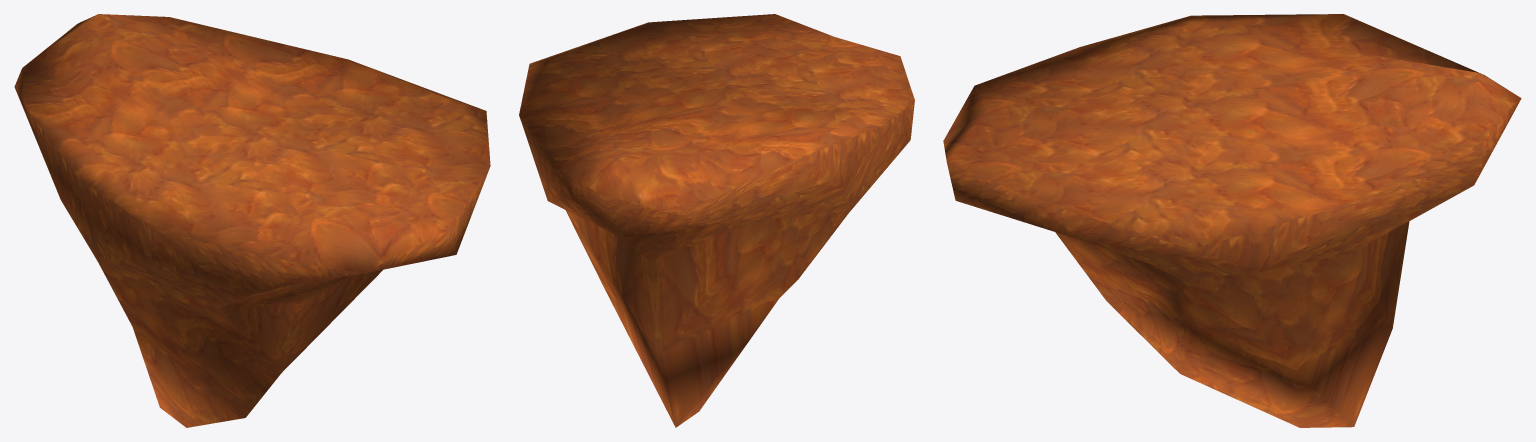
The model's file is durotarcliffrock05.obj.
3 views of the same model, side by side, from view 1: azimuth 30°, elevation 25°; view 2: azimuth 150°, elevation 25°; view 3: azimuth 270°, elevation 25° (orthographic). The views are drawn at different scales.
Visible parts, largest first — view 1: DurotarCliffRock05; view 2: DurotarCliffRock05; view 3: DurotarCliffRock05.
Boxes of the visible parts, box(x1,y1,x2,y2) form: DurotarCliffRock05: box(14, 14, 490, 427); DurotarCliffRock05: box(519, 14, 914, 427); DurotarCliffRock05: box(943, 14, 1521, 427).
Bounding box in the file's own units: 81.35 × 66.71 × 98.46.
1 material, 1 textured.
